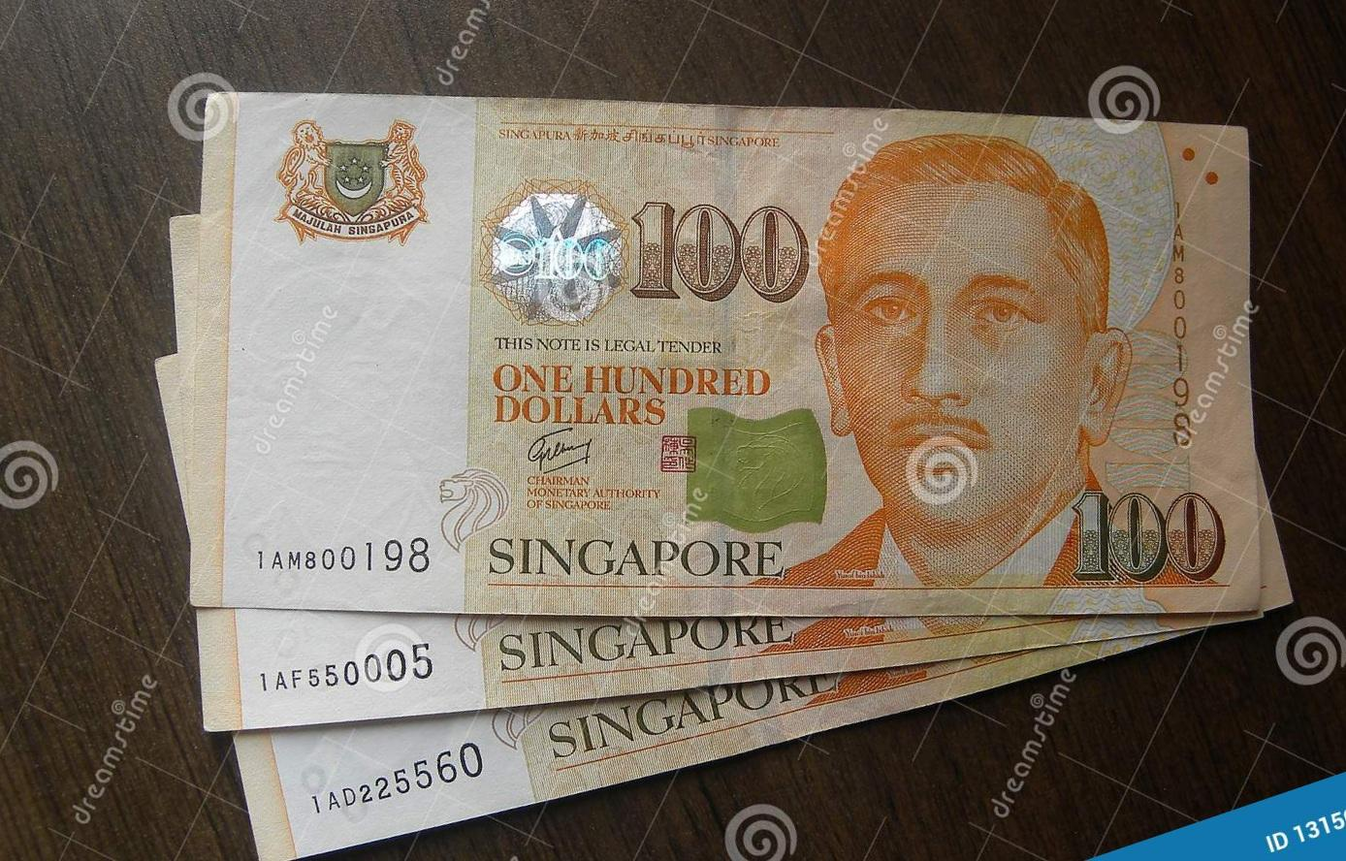100SingaporeDollar: (216, 119, 1245, 607)
